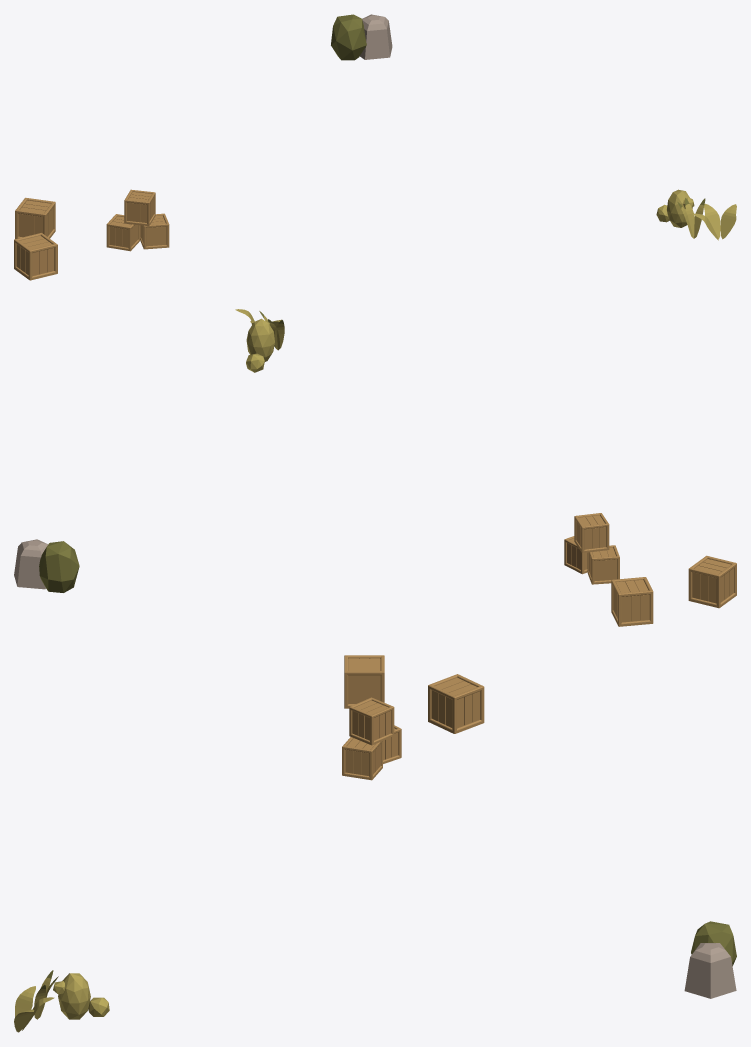
The picture shows the model from 3 angles, top to bottom: view 1: azimuth 30°, elevation 25°; view 2: azimuth 150°, elevation 25°; view 3: azimuth 270°, elevation 25°; orthographic projection. The views are drawn at different scales.
Parts seen in each view (by area): view 1: Cube.086_Material.001_0, Cube.082_Material.001_0, Cube.088_Material.001_0, Sphere.028_Material.001_0, Cylinder.162_Material.001_0, Plane.083_Material.001_0, Icosphere.014_Material.001_0, Plane.082_Material.001_0; view 2: Cube.086_Material.001_0, Cube.082_Material.001_0, Cube.088_Material.001_0, Sphere.028_Material.001_0, Cylinder.162_Material.001_0, Icosphere.014_Material.001_0; view 3: Cube.086_Material.001_0, Cube.088_Material.001_0, Cylinder.162_Material.001_0, Cube.082_Material.001_0, Icosphere.014_Material.001_0, Sphere.028_Material.001_0, Plane.083_Material.001_0.
Boxes of the visible parts, left/top/right/bottom form: Cube.086_Material.001_0: left=106, top=189, right=169, bottom=251; Cube.082_Material.001_0: left=14, top=233, right=57, bottom=280; Cube.088_Material.001_0: left=15, top=197, right=55, bottom=238; Sphere.028_Material.001_0: left=331, top=14, right=366, bottom=60; Cylinder.162_Material.001_0: left=360, top=14, right=392, bottom=59; Plane.083_Material.001_0: left=693, top=203, right=736, bottom=240; Icosphere.014_Material.001_0: left=656, top=189, right=694, bottom=227; Plane.082_Material.001_0: left=677, top=198, right=705, bottom=238; Cube.086_Material.001_0: left=564, top=513, right=619, bottom=584; Cube.082_Material.001_0: left=688, top=555, right=736, bottom=608; Cube.088_Material.001_0: left=611, top=577, right=653, bottom=626; Sphere.028_Material.001_0: left=39, top=541, right=79, bottom=592; Cylinder.162_Material.001_0: left=14, top=539, right=47, bottom=589; Icosphere.014_Material.001_0: left=246, top=318, right=274, bottom=372; Cube.086_Material.001_0: left=342, top=697, right=401, bottom=780; Cube.088_Material.001_0: left=428, top=674, right=484, bottom=733; Cylinder.162_Material.001_0: left=684, top=943, right=736, bottom=998; Cube.082_Material.001_0: left=344, top=655, right=384, bottom=708; Icosphere.014_Material.001_0: left=53, top=973, right=109, bottom=1019; Sphere.028_Material.001_0: left=691, top=921, right=736, bottom=965; Plane.083_Material.001_0: left=14, top=986, right=54, bottom=1032.
Size of the model in its own units: 2.81 by 0.2168 by 2.43.
1 material, 1 textured.
